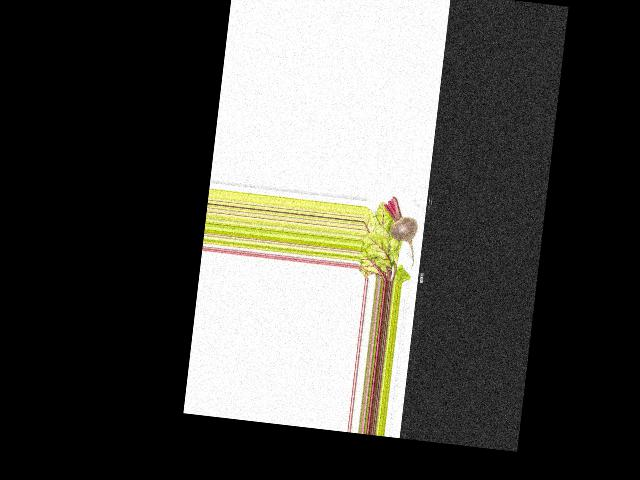beet: (377, 195, 421, 268)
